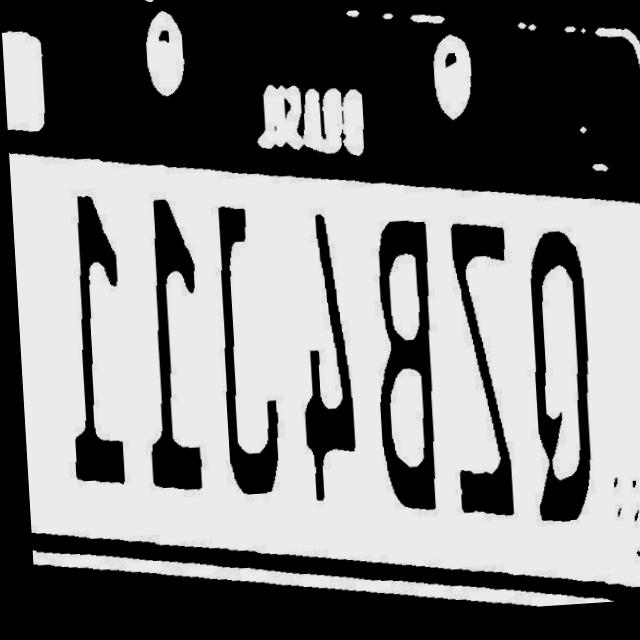1: (120, 183, 212, 511), (49, 182, 135, 506)
4: (268, 197, 356, 520)
b: (349, 201, 447, 538)
j: (199, 188, 280, 520)
q: (507, 233, 601, 552)
z: (428, 227, 528, 544)
